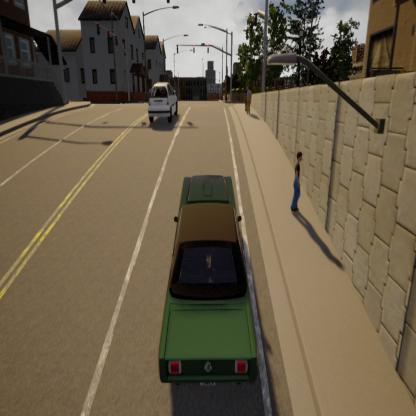Cars: (143, 153, 269, 416), (139, 64, 190, 135)
Pedestrian: (286, 119, 313, 243)
